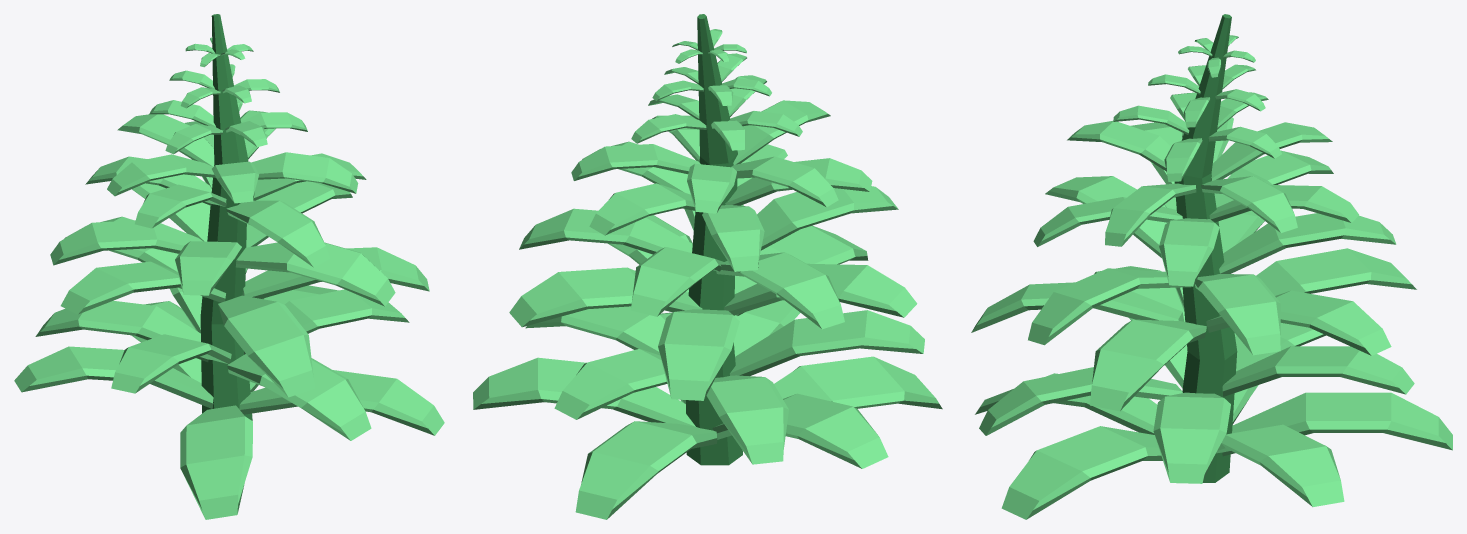
File: Tropical.fbx
The picture shows the model from 3 angles, left to right: view 1: azimuth 30°, elevation 25°; view 2: azimuth 150°, elevation 25°; view 3: azimuth 270°, elevation 25°; orthographic projection. The views are drawn at different scales.
Parts seen in each view (by area): view 1: Cylinder.009, Cube.020, Cube.030, Cube.035, Cube.017, Cube.021, Cube.025, Cube.023, Cube.029, Cube.033, Cube.024, Cube.040 (+20 smaller); view 2: Cylinder.009, Cube.019, Cube.024, Cube.022, Cube.020, Cube.028, Cube.023, Cube.032, Cube.017, Cube.027, Cube.033, Cube.029 (+20 smaller); view 3: Cylinder.009, Cube.019, Cube.021, Cube.031, Cube.022, Cube.026, Cube.027, Cube.028, Cube.036, Cube.035, Cube.032, Cube.037 (+20 smaller).
Part boxes in pixels (x1=…): Cylinder.009: x1=200, y1=14, x2=252, y2=420; Cube.020: x1=180, y1=405, x2=252, y2=519; Cube.030: x1=218, y1=295, x2=315, y2=397; Cube.035: x1=235, y1=242, x2=395, y2=306; Cube.017: x1=14, y1=346, x2=213, y2=408; Cube.021: x1=239, y1=370, x2=444, y2=435; Cube.025: x1=227, y1=354, x2=371, y2=440; Cube.023: x1=35, y1=300, x2=208, y2=362; Cube.029: x1=60, y1=261, x2=225, y2=314; Cube.033: x1=50, y1=220, x2=202, y2=265; Cube.024: x1=111, y1=334, x2=231, y2=393; Cube.040: x1=226, y1=200, x2=329, y2=267; Cylinder.009: x1=686, y1=14, x2=742, y2=465; Cube.019: x1=575, y1=421, x2=717, y2=519; Cube.024: x1=730, y1=310, x2=924, y2=375; Cube.022: x1=473, y1=357, x2=695, y2=426; Cube.020: x1=774, y1=356, x2=942, y2=409; Cube.028: x1=658, y1=309, x2=739, y2=400; Cube.023: x1=706, y1=375, x2=788, y2=464; Cube.032: x1=509, y1=267, x2=702, y2=327; Cube.017: x1=712, y1=393, x2=888, y2=468; Cube.027: x1=554, y1=349, x2=667, y2=419; Cube.033: x1=716, y1=252, x2=844, y2=329; Cube.029: x1=724, y1=263, x2=917, y2=317; Cylinder.009: x1=1174, y1=14, x2=1237, y2=482; Cube.019: x1=1222, y1=392, x2=1452, y2=456; Cube.021: x1=1001, y1=426, x2=1162, y2=519; Cube.031: x1=1090, y1=319, x2=1206, y2=411; Cube.022: x1=1216, y1=424, x2=1344, y2=506; Cube.026: x1=1153, y1=392, x2=1230, y2=483; Cube.027: x1=1222, y1=346, x2=1414, y2=396; Cube.028: x1=1256, y1=248, x2=1416, y2=295; Cube.036: x1=1195, y1=274, x2=1280, y2=355; Cube.035: x1=1028, y1=268, x2=1191, y2=345; Cube.032: x1=1206, y1=290, x2=1391, y2=355; Cube.037: x1=1219, y1=213, x2=1396, y2=273.
Size of the model in its own units: 1.28 by 1.4 by 1.34.
